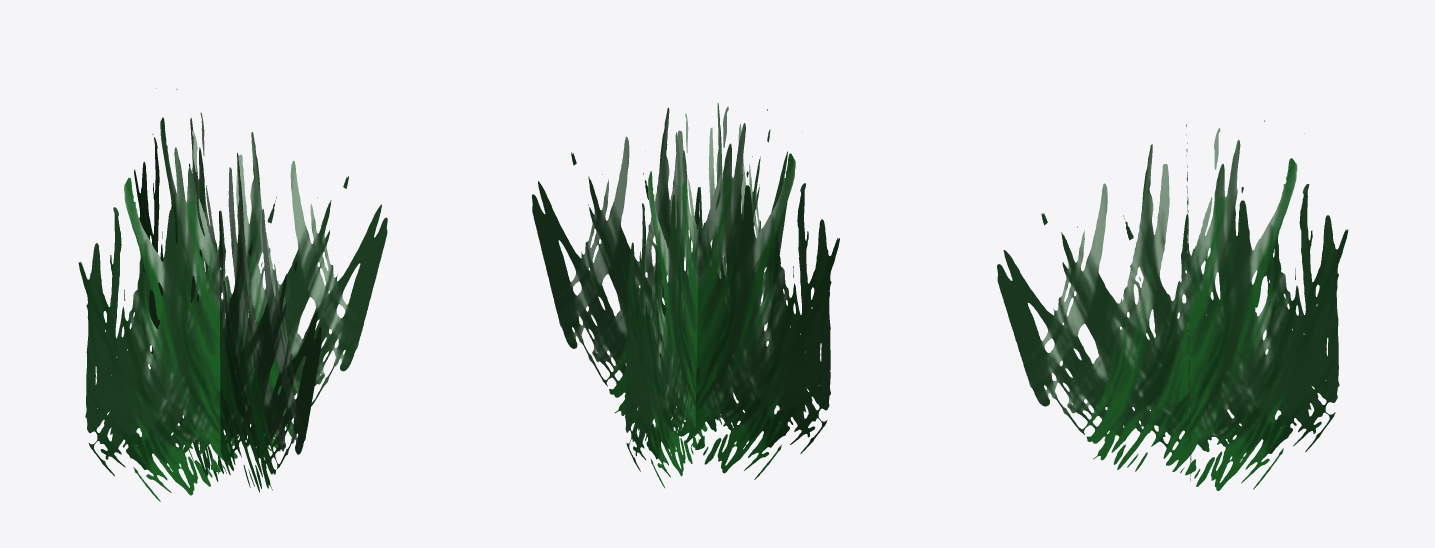
Rendered from grass.fbx.
3 renders of one model, left to right at view 1: azimuth 30°, elevation 25°; view 2: azimuth 150°, elevation 25°; view 3: azimuth 270°, elevation 25°, orthographic.
Visible parts, largest first — view 1: Hierba; view 2: Hierba; view 3: Hierba.
Boxes of the visible parts, x1,y1,x2,y2 form: Hierba: [78, 88, 387, 501]; Hierba: [532, 103, 839, 487]; Hierba: [997, 120, 1348, 490].
Size of the model in its own units: 192 by 203 by 192.
